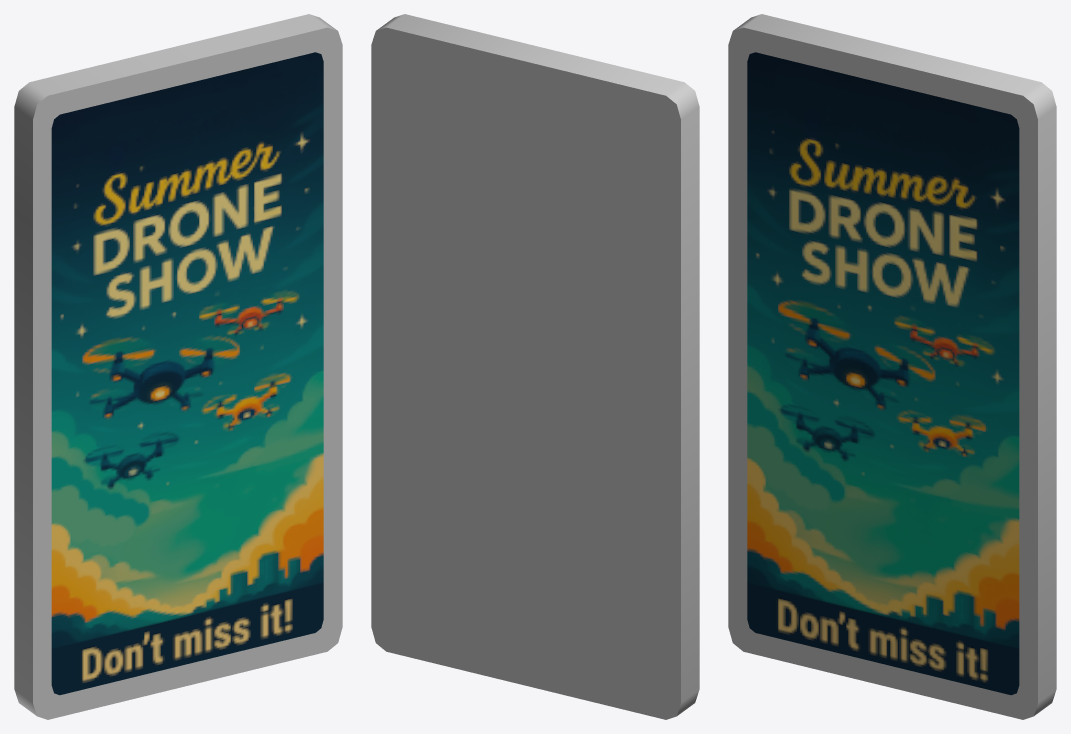
Rendered from Billboard_1x2_03.fbx.
The picture shows the model from 3 angles, left to right: view 1: azimuth 30°, elevation 25°; view 2: azimuth 150°, elevation 25°; view 3: azimuth 330°, elevation 25°; orthographic projection.
Parts seen in each view (by area): view 1: Billboard_1x2_03; view 2: Billboard_1x2_03; view 3: Billboard_1x2_03.
Boxes of the visible parts, x1,y1,x2,y2 form: Billboard_1x2_03: (14,14,342,719); Billboard_1x2_03: (371,14,699,719); Billboard_1x2_03: (728,14,1056,719).
Size of the model in its own units: 566 by 58.49 by 1090.
